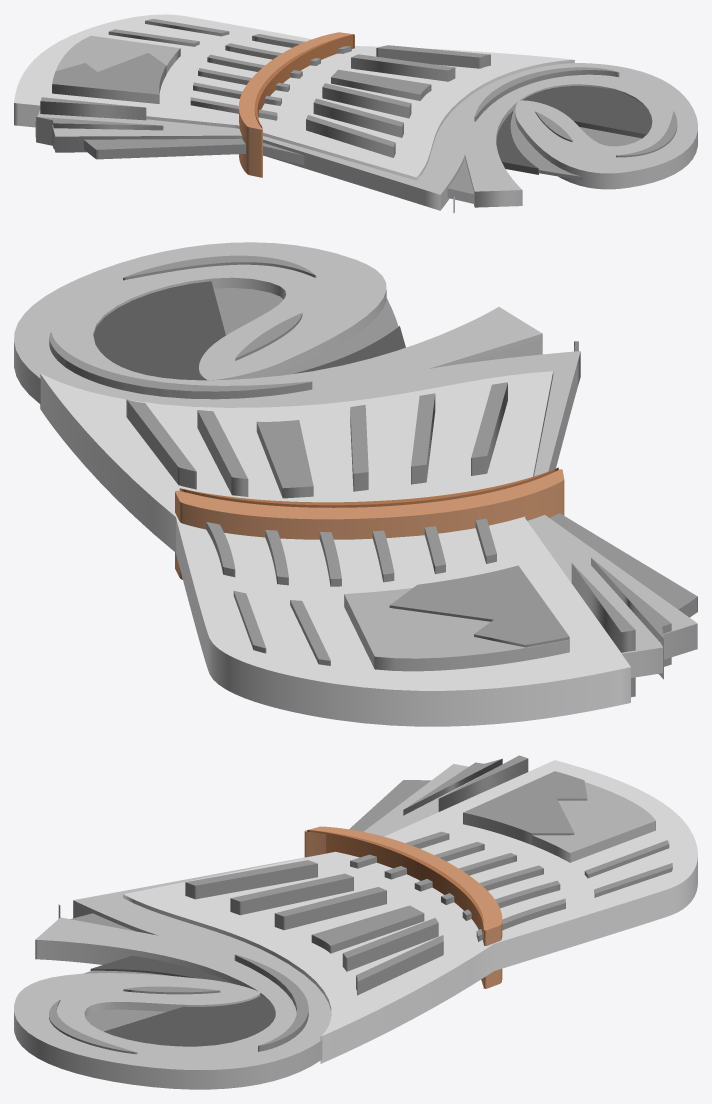
File: emoji_u1f5de.glb
The picture shows the model from 3 angles, top to bottom: view 1: azimuth 30°, elevation 25°; view 2: azimuth 150°, elevation 25°; view 3: azimuth 270°, elevation 25°; orthographic projection. The views are drawn at different scales.
Visible parts, largest first — view 1: emoji_u1f5de; view 2: emoji_u1f5de; view 3: emoji_u1f5de.
Part boxes in pixels (x1,y1,x2,y2): emoji_u1f5de: (14,14,697,213); emoji_u1f5de: (14,242,697,726); emoji_u1f5de: (14,755,697,1089).
Size of the model in its own units: 0.0337 by 0.0032 by 0.0318.
